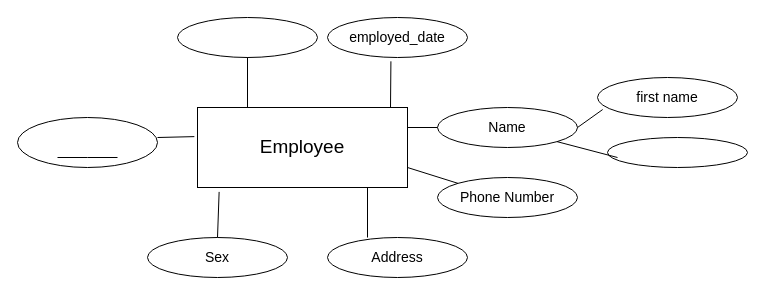
Image size: 765x295. Some labels were removed from this diagram. The centre of each missing label's shape, as x and y in pixels:
emp_id: [87,142]
last name: [677,152]
Profession: [247,37]
